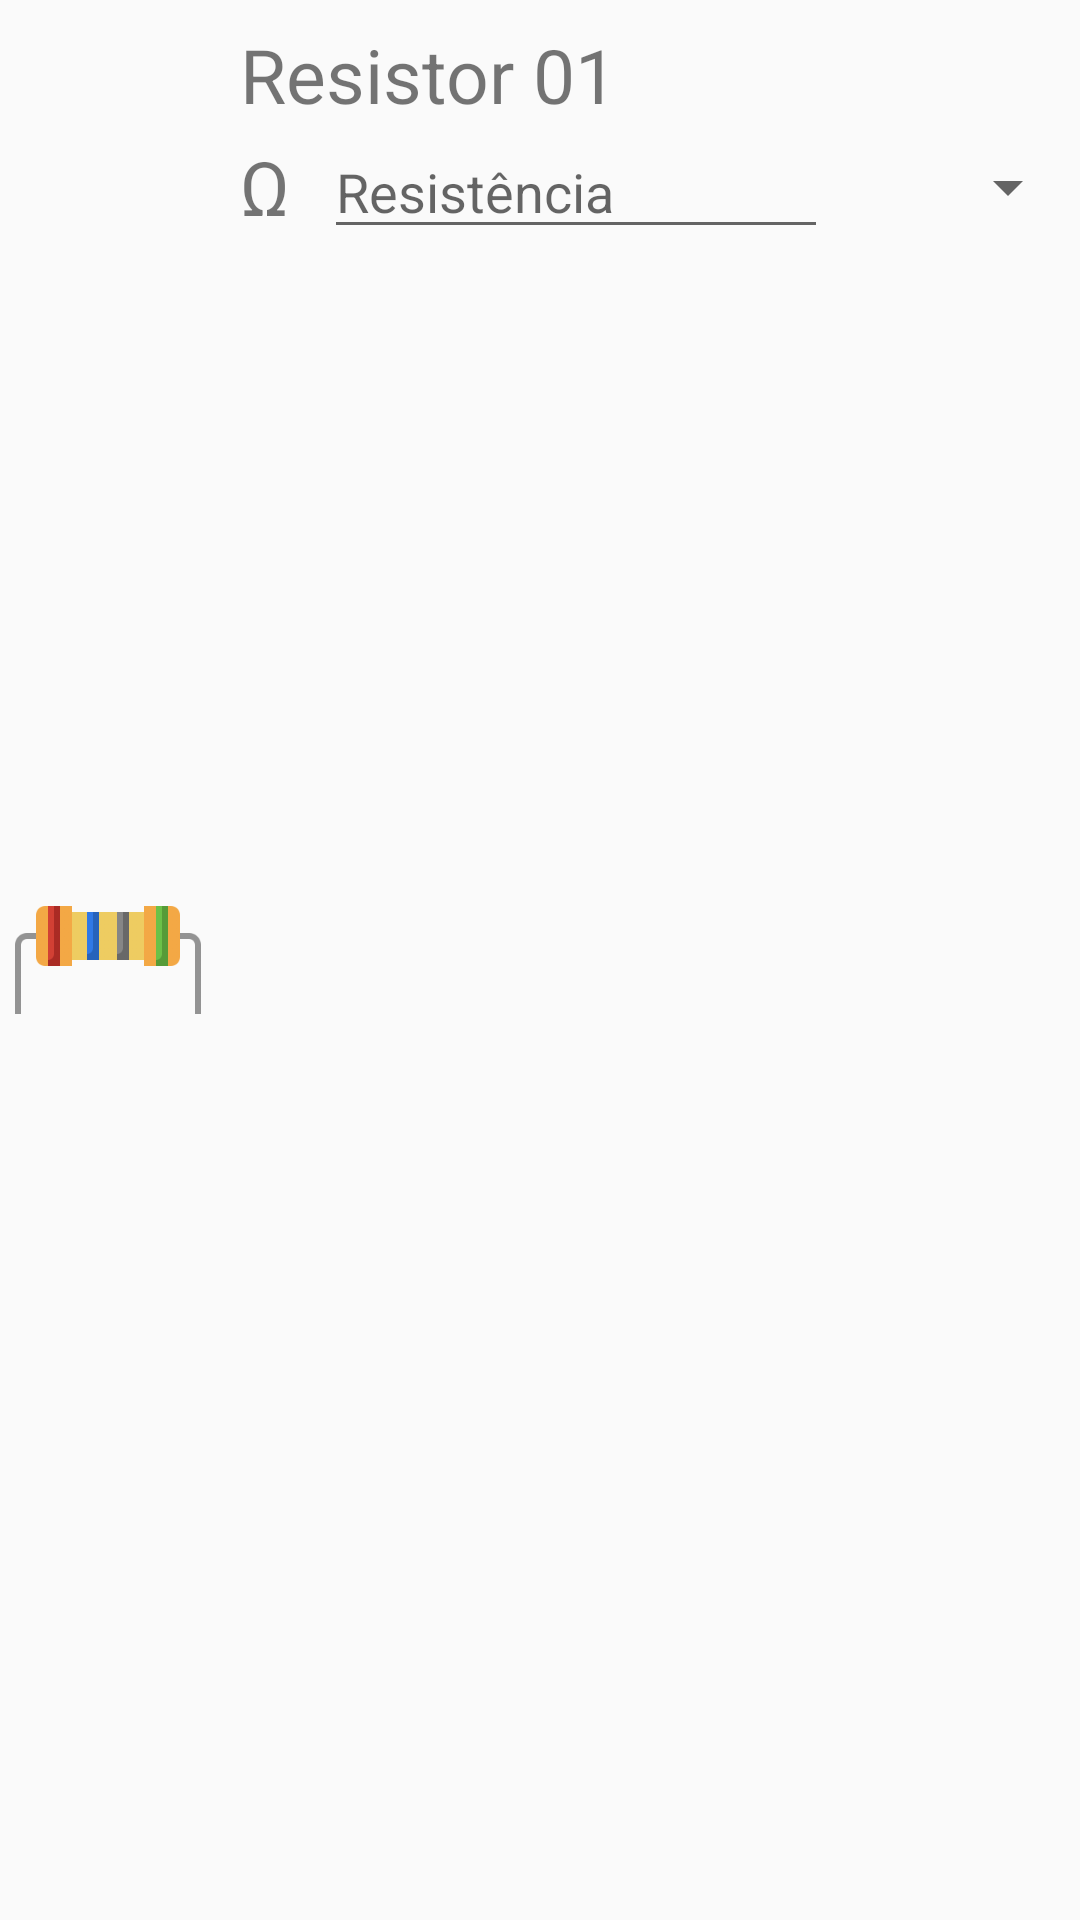

Screen size 1080×1920. Icon name, then its center in pixels as (x,y):
resistor: (108,960)
